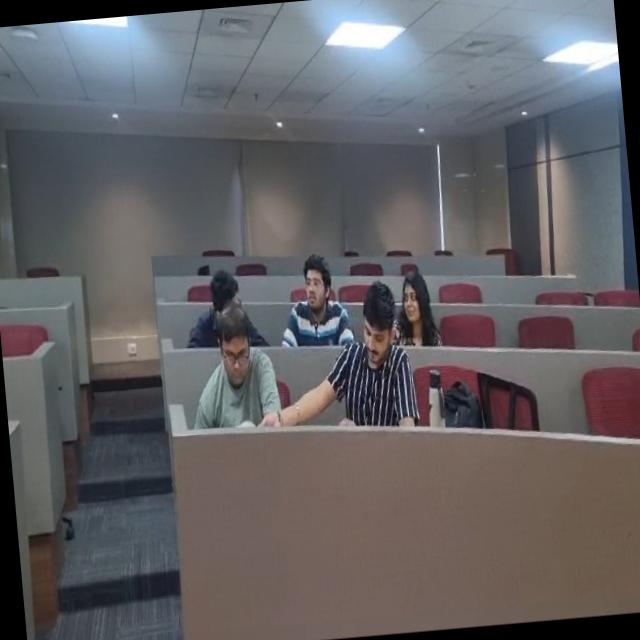cheating: (278, 274, 422, 438), (274, 242, 356, 354), (202, 315, 280, 425), (386, 258, 454, 348), (188, 247, 254, 326)
